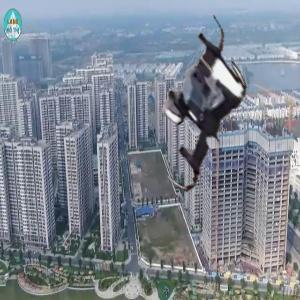drone: (128, 38, 273, 183)
